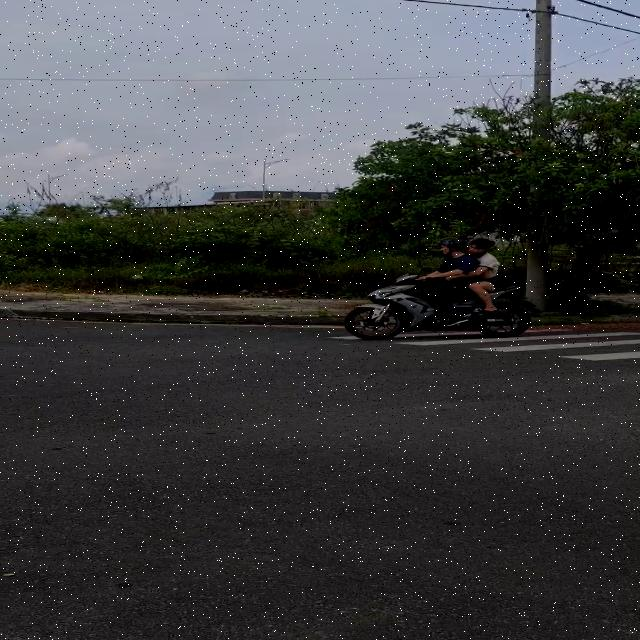no_helmet: (465, 236, 494, 262)
